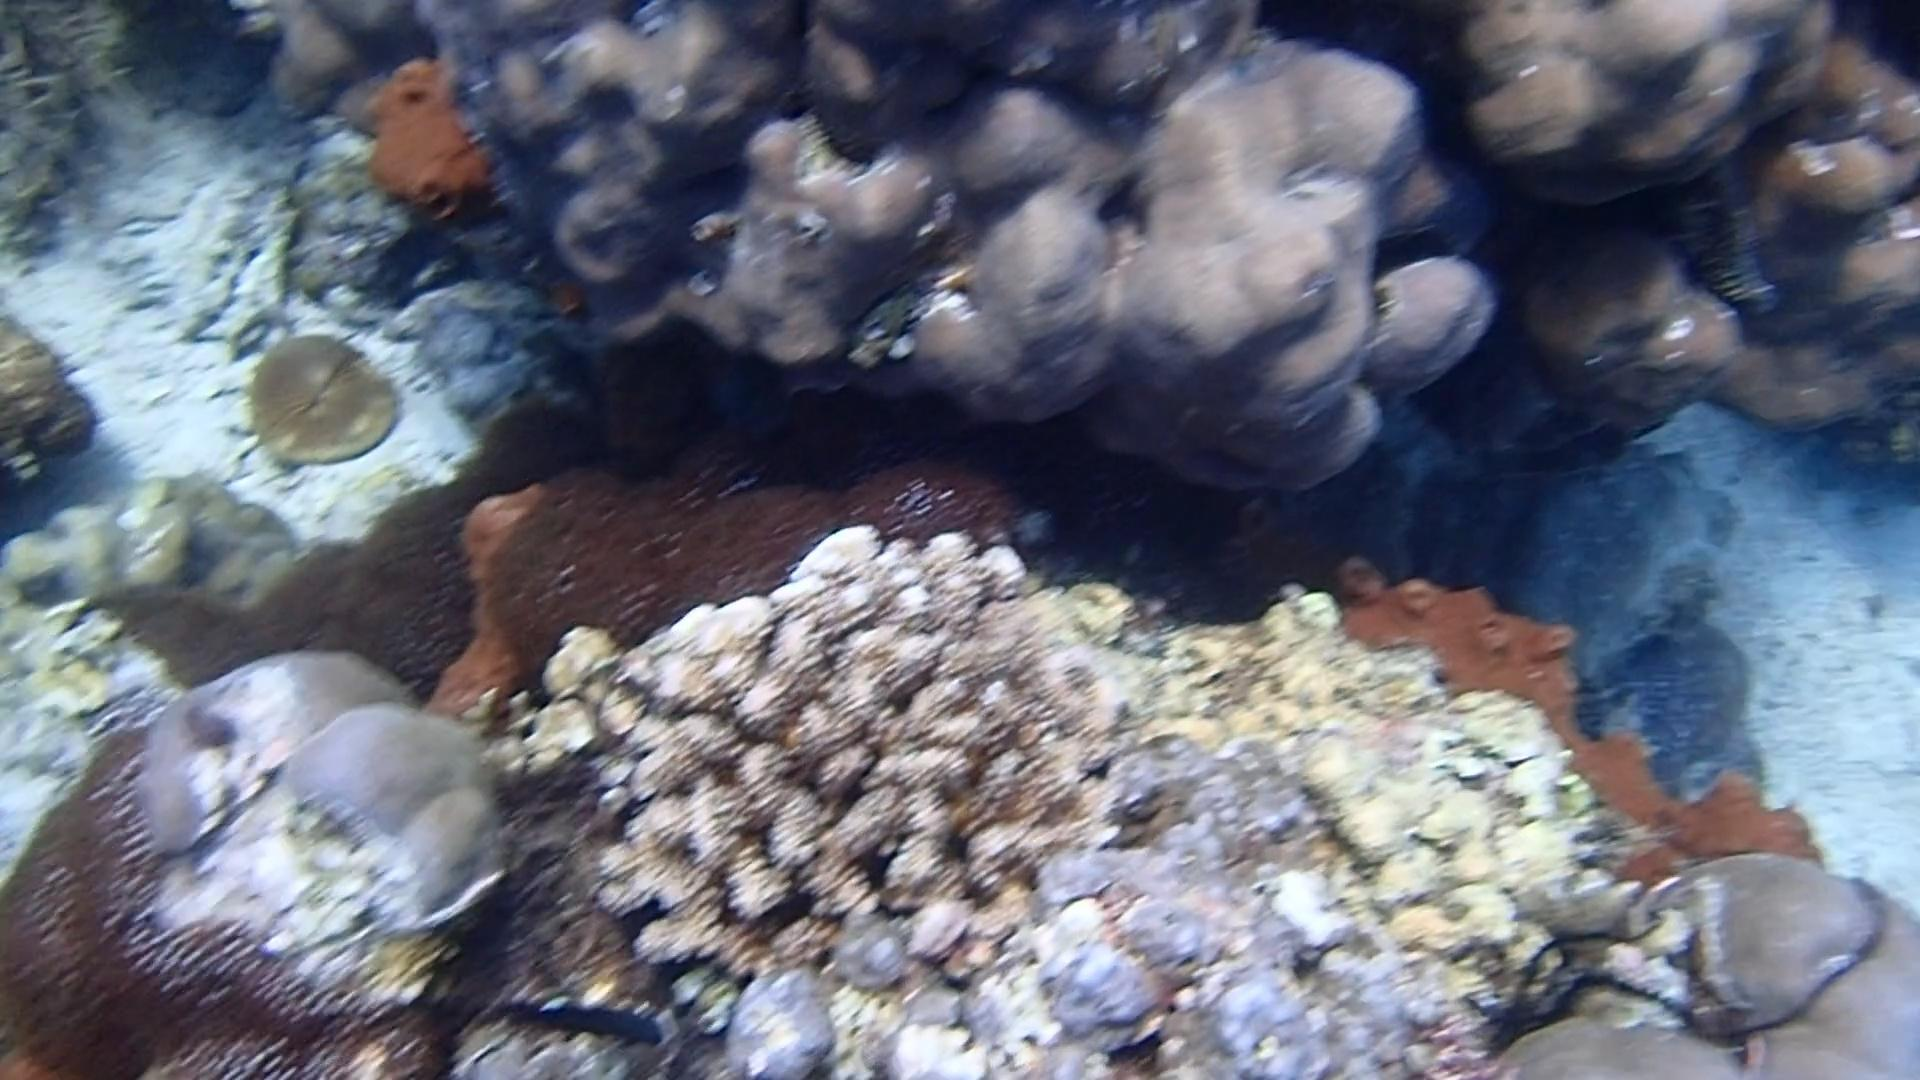Dark Fish: (483, 993, 680, 1063)
